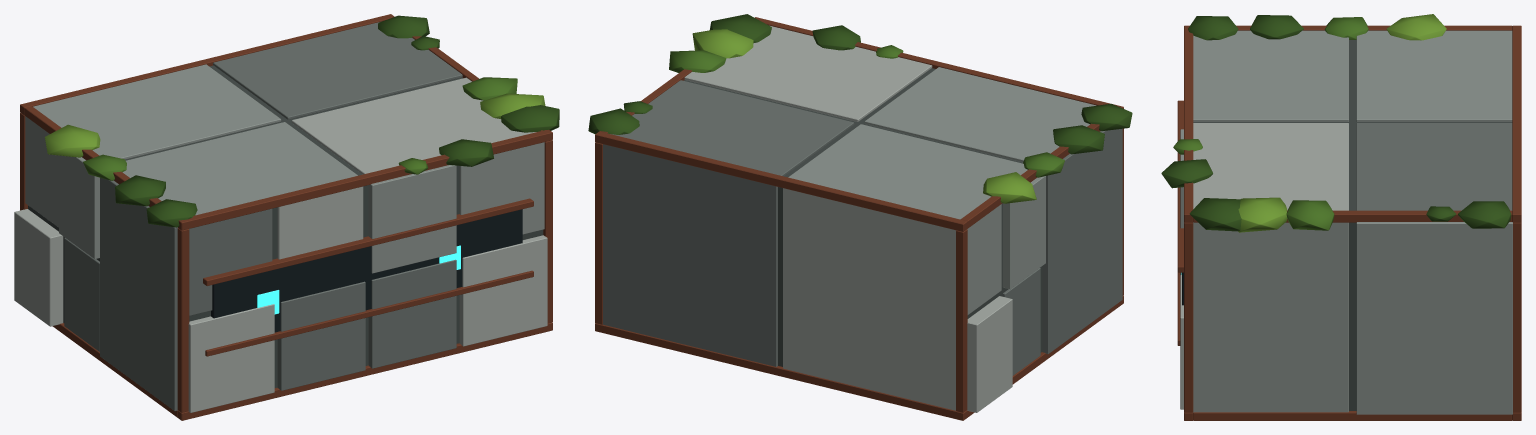
The model's file is RUIN_BLK_Cantilever_4x3x2.glb.
3 views of the same model, side by side, from view 1: azimuth 30°, elevation 25°; view 2: azimuth 150°, elevation 25°; view 3: azimuth 270°, elevation 25° (orthographic). The views are drawn at different scales.
Parts seen in each view (by area): view 1: RUIN_BLK_Cantilever_4x3x2; view 2: RUIN_BLK_Cantilever_4x3x2; view 3: RUIN_BLK_Cantilever_4x3x2.
Boxes of the visible parts, box(x1,y1,x2,y2) form: RUIN_BLK_Cantilever_4x3x2: box(14, 14, 559, 420); RUIN_BLK_Cantilever_4x3x2: box(588, 14, 1132, 420); RUIN_BLK_Cantilever_4x3x2: box(1161, 14, 1521, 420).
Bounding box in the file's own units: 4.63 × 2.19 × 3.29.
